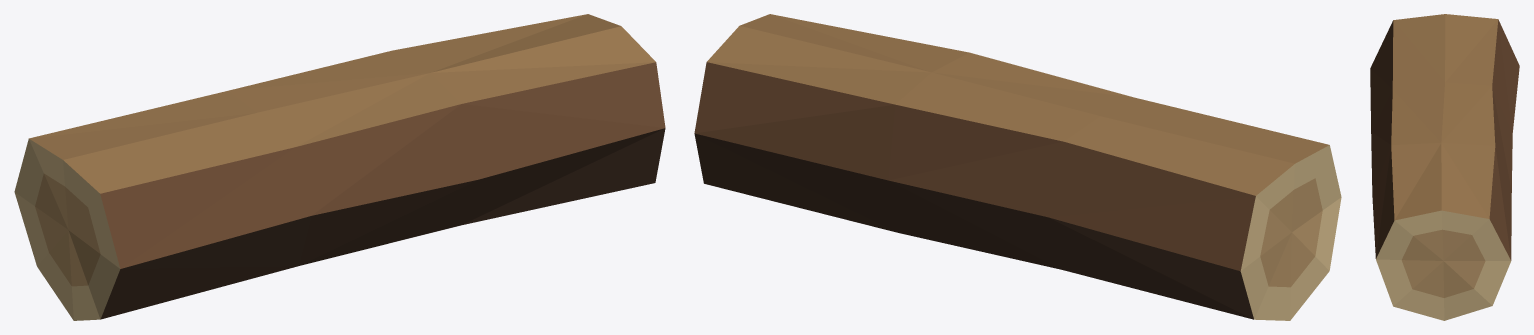
File: SM_SeatLog.fbx
The picture shows the model from 3 angles, left to right: view 1: azimuth 30°, elevation 25°; view 2: azimuth 150°, elevation 25°; view 3: azimuth 270°, elevation 25°; orthographic projection. The views are drawn at different scales.
Visible parts, largest first — view 1: SM_SeatLog; view 2: SM_SeatLog; view 3: SM_SeatLog.
Part boxes in pixels (x1=…): SM_SeatLog: x1=14, y1=14, x2=665, y2=320; SM_SeatLog: x1=694, y1=14, x2=1341, y2=320; SM_SeatLog: x1=1370, y1=14, x2=1519, y2=320.
Size of the model in its own units: 1.62 by 0.4463 by 0.5194.
